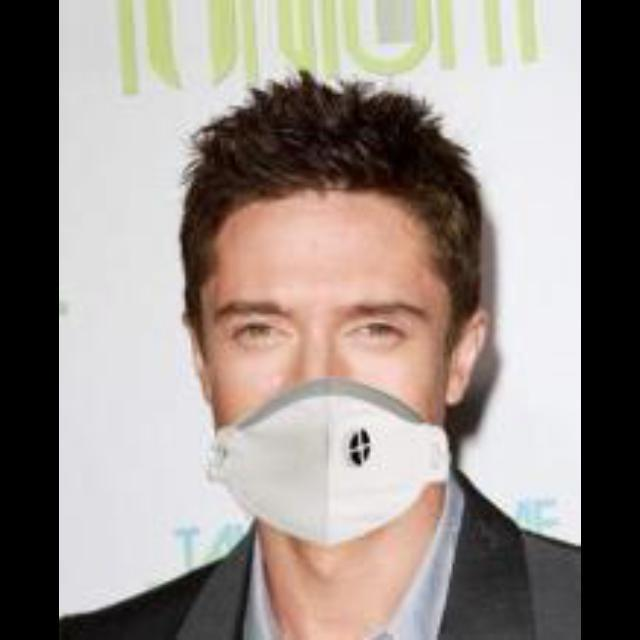suspicion: (208, 129, 494, 569)
